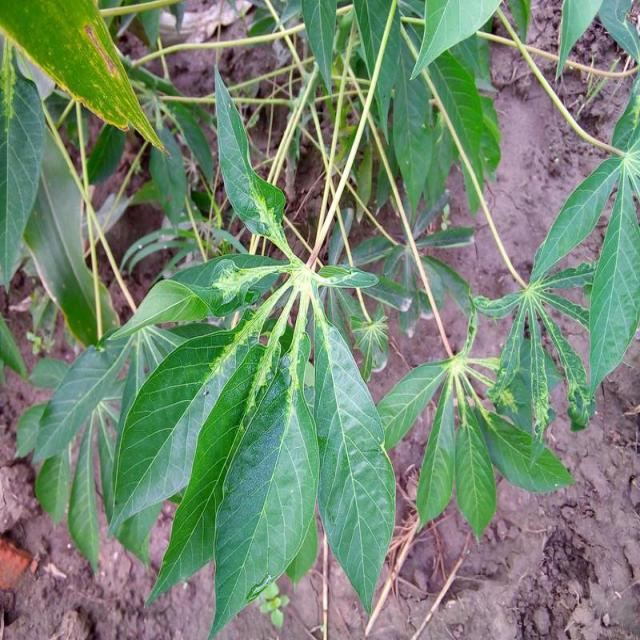cassava leaf: (4, 1, 638, 636), (0, 0, 170, 157), (311, 312, 396, 616), (212, 62, 286, 239)
